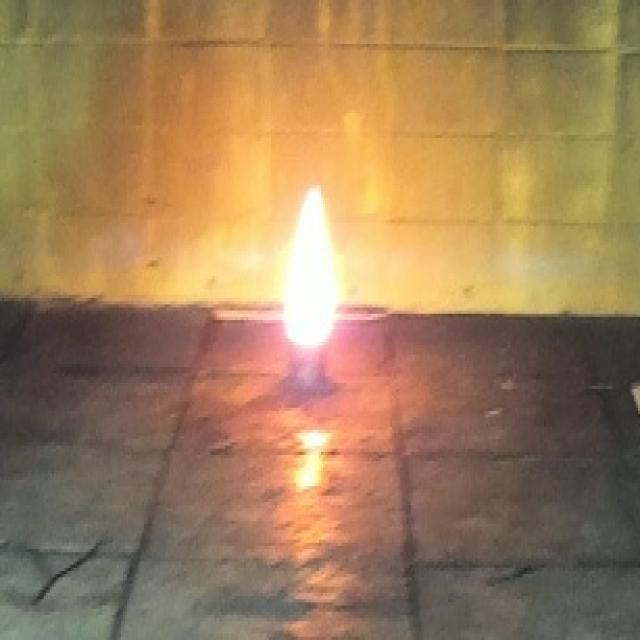Fire: (284, 184, 336, 348)
